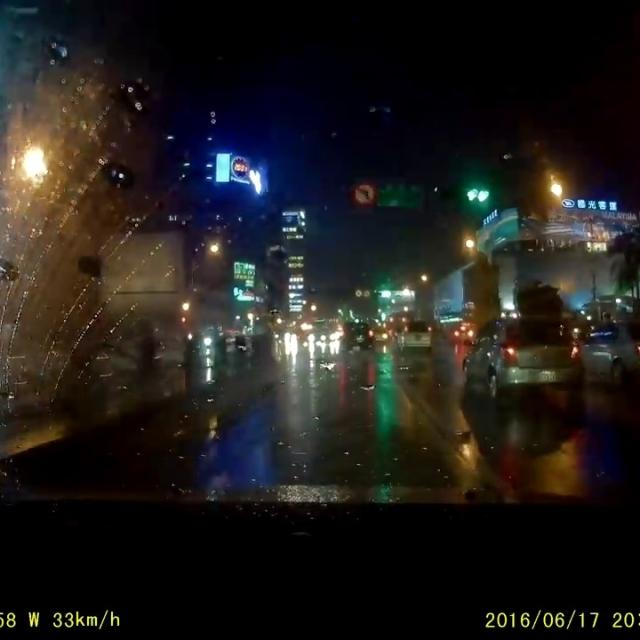Car: (459, 315, 575, 406), (568, 317, 638, 389), (394, 319, 430, 349), (341, 319, 370, 348), (305, 319, 330, 344), (451, 317, 472, 343), (280, 326, 302, 341)
